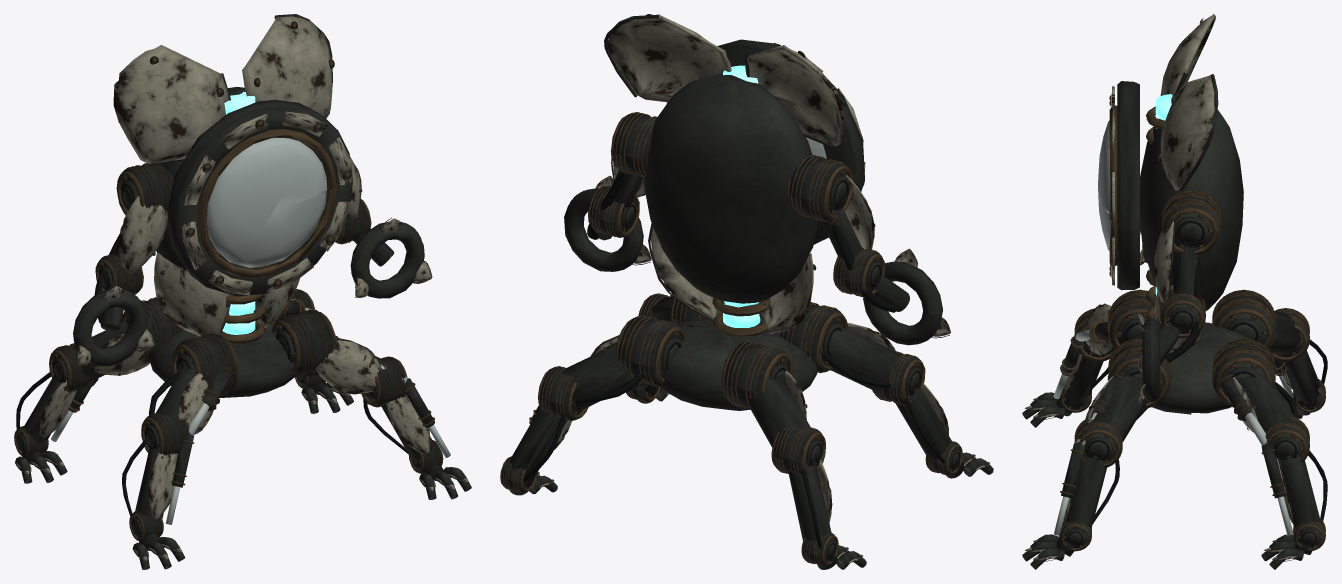
The model's file is boss-mirror-collector.glb.
3 renders of one model, left to right at view 1: azimuth 30°, elevation 25°; view 2: azimuth 150°, elevation 25°; view 3: azimuth 270°, elevation 25°, orthographic. The views are drawn at different scales.
Visible parts, largest first — view 1: motion-body, motion-optic, motion-weapon-0, motion-leg-2, motion-weapon-1, motion-leg-0, motion-knee-0, motion-knee-2, motion-knee-1, motion-leg-1, motion-foot-0, motion-foot-2 (+2 smaller); view 2: motion-body, motion-weapon-0, motion-weapon-1, motion-leg-3, motion-leg-1, motion-leg-0, motion-knee-1, motion-knee-3, motion-knee-0, motion-optic, motion-foot-1, motion-foot-0 (+2 smaller); view 3: motion-body, motion-weapon-1, motion-optic, motion-leg-3, motion-knee-2, motion-knee-3, motion-leg-2, motion-leg-1, motion-leg-0, motion-knee-1, motion-knee-0, motion-foot-2 (+3 smaller).
Boxes of the visible parts, x1,y1,x2,y2 form: motion-body: [113, 14, 351, 397]; motion-optic: [167, 99, 353, 296]; motion-weapon-0: [73, 163, 173, 366]; motion-leg-2: [271, 309, 407, 398]; motion-weapon-1: [304, 143, 432, 298]; motion-leg-0: [149, 333, 238, 435]; motion-knee-0: [122, 412, 194, 534]; motion-knee-2: [361, 356, 450, 469]; motion-knee-1: [16, 343, 98, 450]; motion-leg-1: [73, 297, 183, 380]; motion-foot-0: [129, 511, 185, 569]; motion-foot-2: [408, 440, 471, 499]; motion-body: [604, 14, 845, 410]; motion-weapon-0: [787, 155, 950, 345]; motion-weapon-1: [564, 112, 657, 271]; motion-leg-3: [562, 315, 686, 412]; motion-leg-1: [721, 341, 810, 447]; motion-leg-0: [777, 302, 899, 392]; motion-knee-1: [771, 426, 836, 562]; motion-knee-3: [510, 366, 588, 488]; motion-knee-0: [872, 351, 960, 471]; motion-optic: [717, 39, 865, 244]; motion-foot-1: [801, 533, 866, 569]; motion-foot-0: [925, 441, 993, 478]; motion-body: [1109, 14, 1250, 414]; motion-weapon-1: [1137, 190, 1220, 402]; motion-optic: [1098, 81, 1139, 290]; motion-leg-3: [1212, 338, 1298, 445]; motion-knee-2: [1054, 418, 1122, 547]; motion-knee-3: [1261, 416, 1327, 547]; motion-leg-2: [1075, 338, 1171, 445]; motion-leg-1: [1212, 289, 1303, 355]; motion-leg-0: [1075, 289, 1156, 356]; motion-knee-1: [1271, 308, 1327, 408]; motion-knee-0: [1053, 308, 1112, 408]; motion-foot-2: [1022, 521, 1091, 569].
Size of the model in its own units: 3.97 by 4.67 by 2.91.
6 materials, 4 textured.
